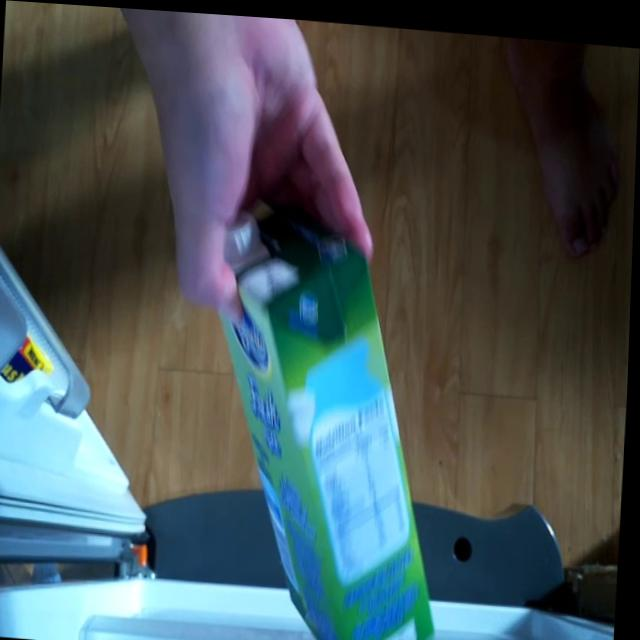milk: (199, 214, 460, 640)
